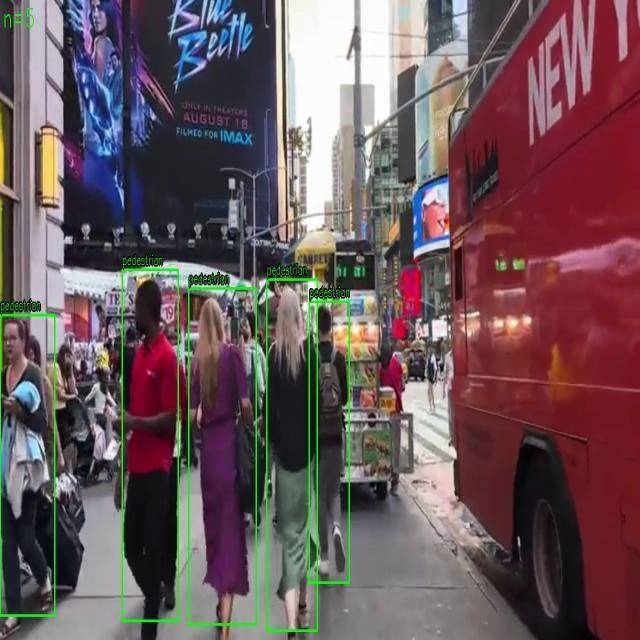person: (188, 288, 256, 625), (122, 269, 178, 622), (266, 279, 318, 631), (0, 314, 55, 616), (308, 301, 349, 583)
